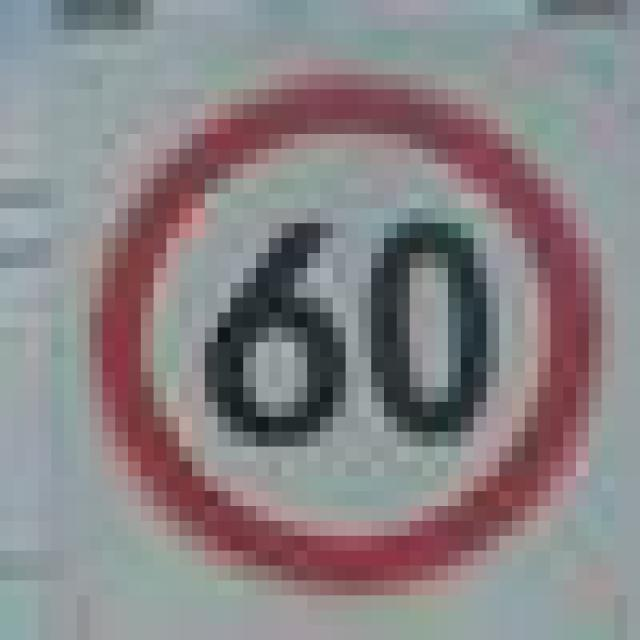speed_limit_40: (90, 59, 576, 566)
